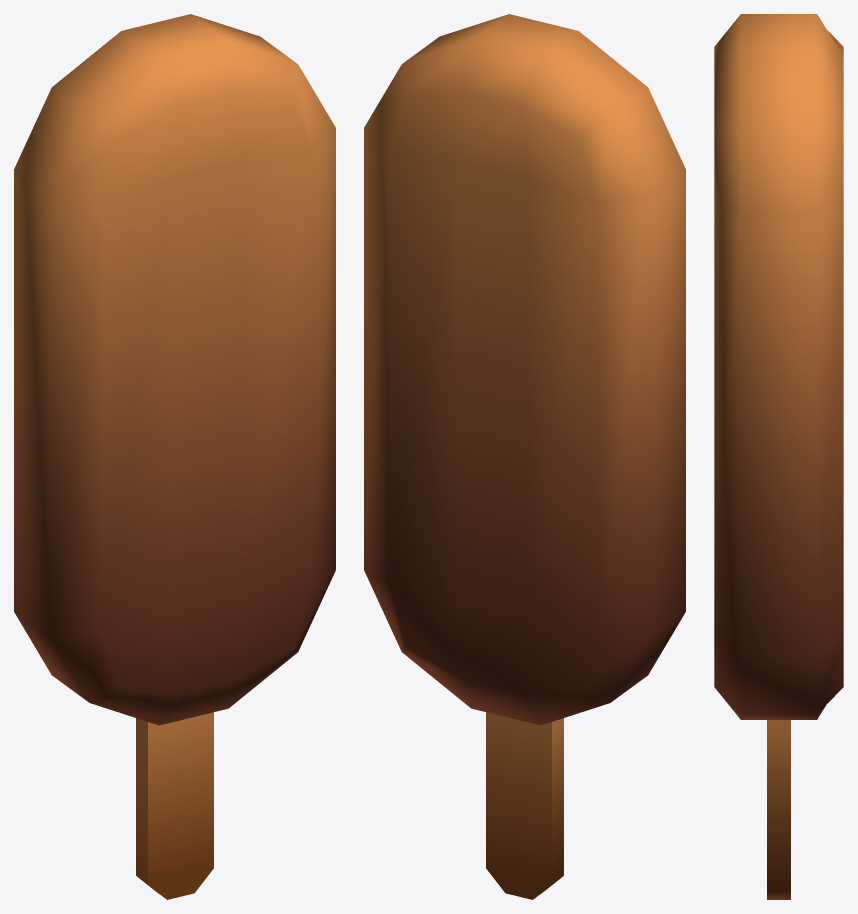
The model's file is m_Popsicle03.fbx.
3 views of the same model, side by side, from view 1: azimuth 30°, elevation 25°; view 2: azimuth 150°, elevation 25°; view 3: azimuth 270°, elevation 25° (orthographic).
Visible parts, largest first — view 1: m_Popsicle03; view 2: m_Popsicle03; view 3: m_Popsicle03.
Part boxes in pixels (x1,y1,x2,y2): m_Popsicle03: [14, 14, 335, 899]; m_Popsicle03: [364, 14, 685, 899]; m_Popsicle03: [714, 14, 843, 899].
Bounding box in the file's own units: 7.98 × 22.99 × 3.12.
